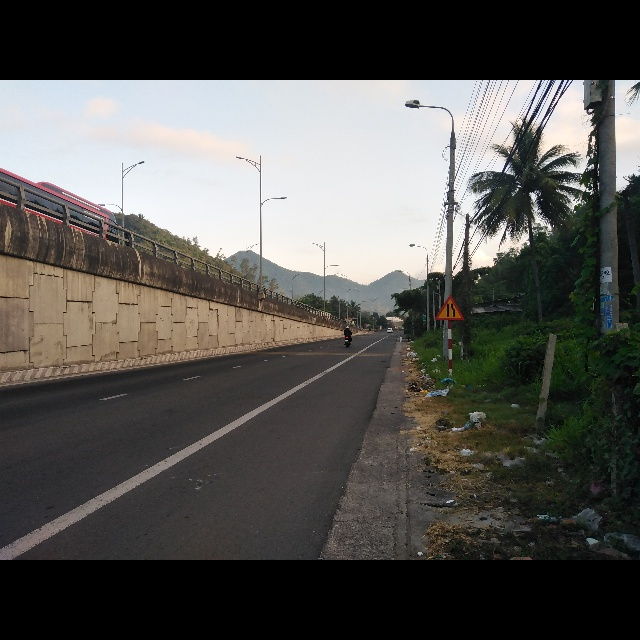Đường bị hẹp bên phải: (434, 294, 464, 320)
